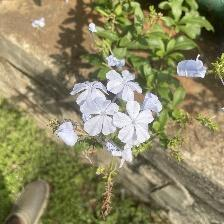chitrak: (114, 100, 154, 151), (81, 99, 120, 139), (105, 70, 141, 100), (73, 80, 112, 104)
